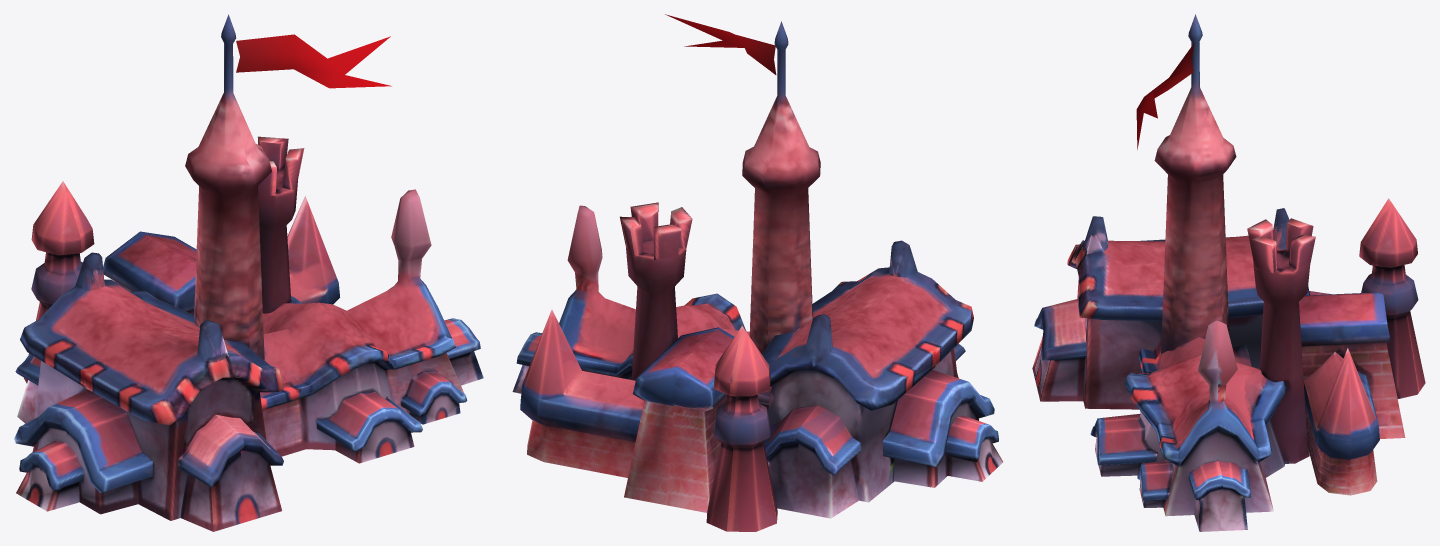
The model's file is Guild_Hall.fbx.
3 renders of one model, left to right at view 1: azimuth 30°, elevation 25°; view 2: azimuth 150°, elevation 25°; view 3: azimuth 270°, elevation 25°, orthographic. The views are drawn at different scales.
Visible parts, largest first — view 1: GUILD_HALL; view 2: GUILD_HALL; view 3: GUILD_HALL.
Boxes of the visible parts, bbox=[...] form: GUILD_HALL: bbox=[14, 14, 483, 531]; GUILD_HALL: bbox=[512, 14, 1002, 531]; GUILD_HALL: bbox=[1032, 14, 1425, 531].
Size of the model in its own units: 46.95 by 41.09 by 36.5.
1 material, 1 textured.
